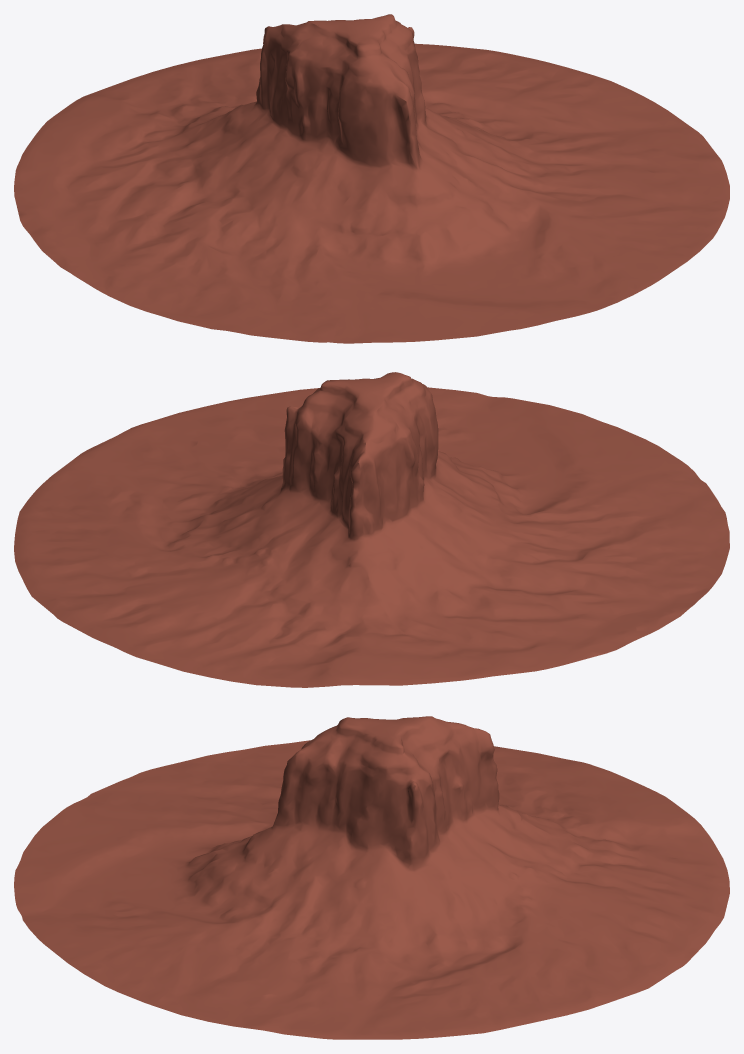
The model's file is wc_canyon01.gltf.
3 views of the same model, one above another, from view 1: azimuth 30°, elevation 25°; view 2: azimuth 150°, elevation 25°; view 3: azimuth 270°, elevation 25° (orthographic).
Parts seen in each view (by area): view 1: wc_canyon01; view 2: wc_canyon01; view 3: wc_canyon01.
Boxes of the visible parts, <box> form: wc_canyon01: <box>14,14,729,343</box>; wc_canyon01: <box>14,372,729,687</box>; wc_canyon01: <box>14,716,729,1039</box>.
Size of the model in its own units: 87.27 by 22.2 by 88.08.
1 material, 1 textured.
